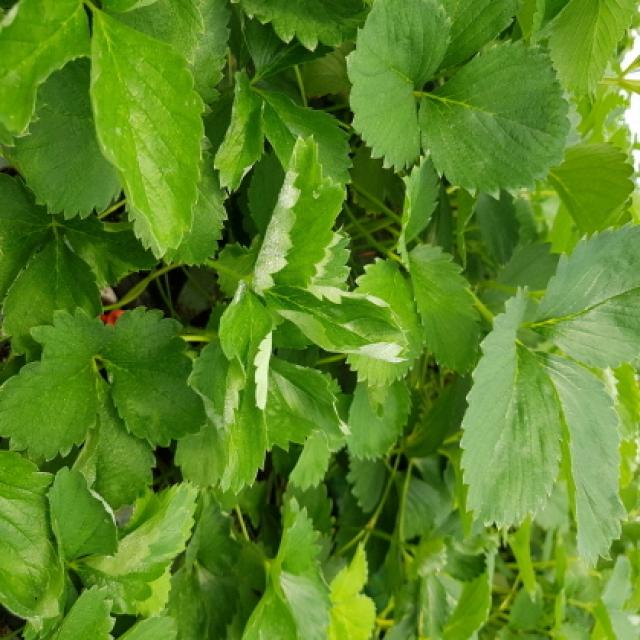Powdery Mildew Leaf: (90, 10, 207, 259), (249, 133, 346, 292), (262, 284, 410, 363), (216, 277, 273, 408), (267, 351, 351, 438), (46, 467, 120, 563), (186, 340, 248, 439)
